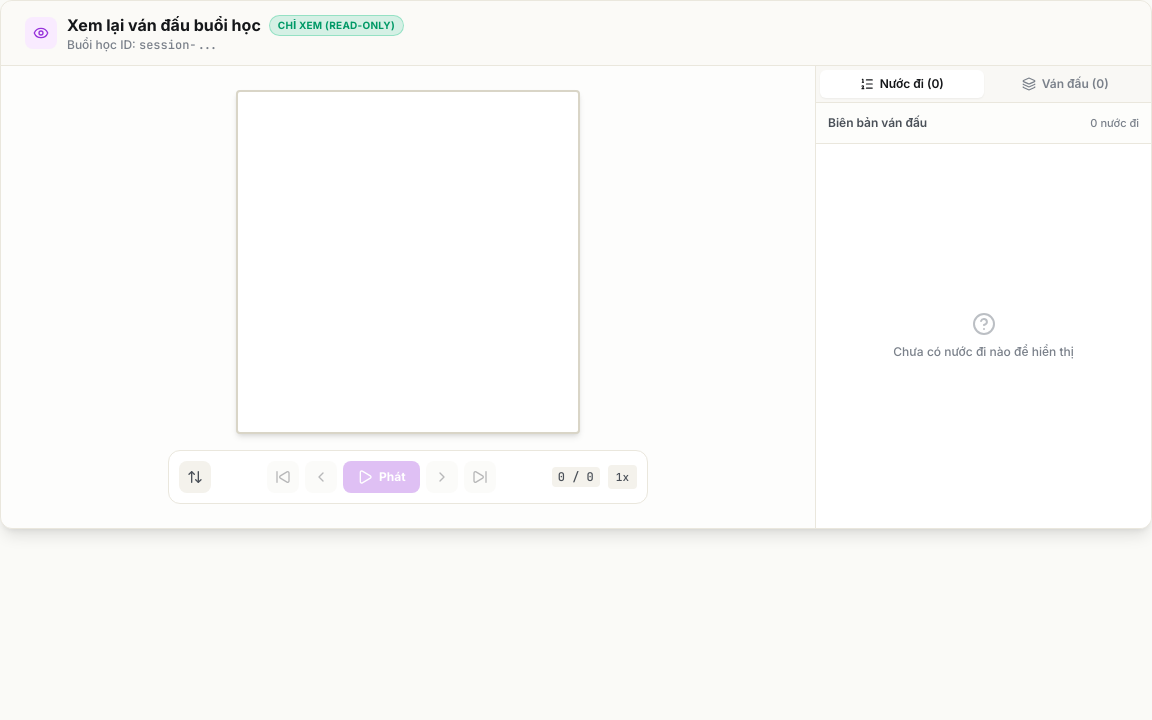
Test: TASK 9.3 — Session Chess Game Replay UI › 1. Session game list (loading, empty, success, error) › shows loading state while fetching session games
Note: Switch to games tab to inspect games list loading indicator
Click the button with test id "replay-tab-games": point(1065, 84) [984,70,1147,98]
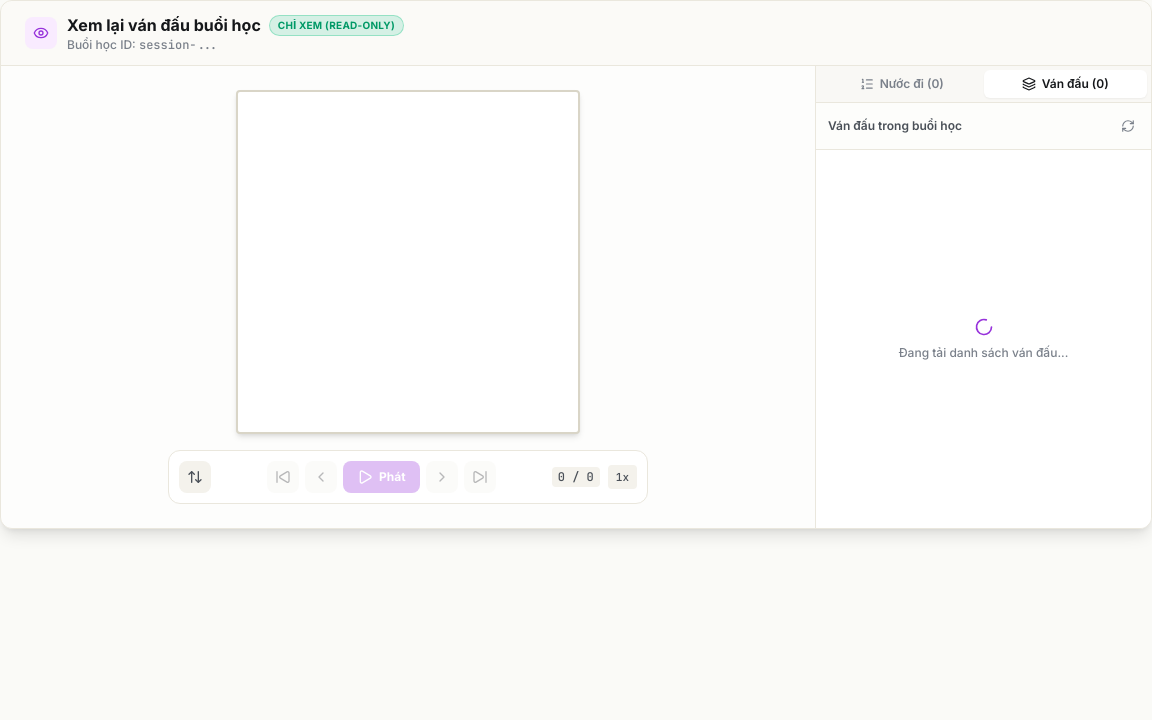
Check: the element with test id "replay-games-loading" is shown, box [899,317,1068,360]
Check: the text "Đang tải danh sách ván đấu..." is shown, box [899,345,1068,361]
